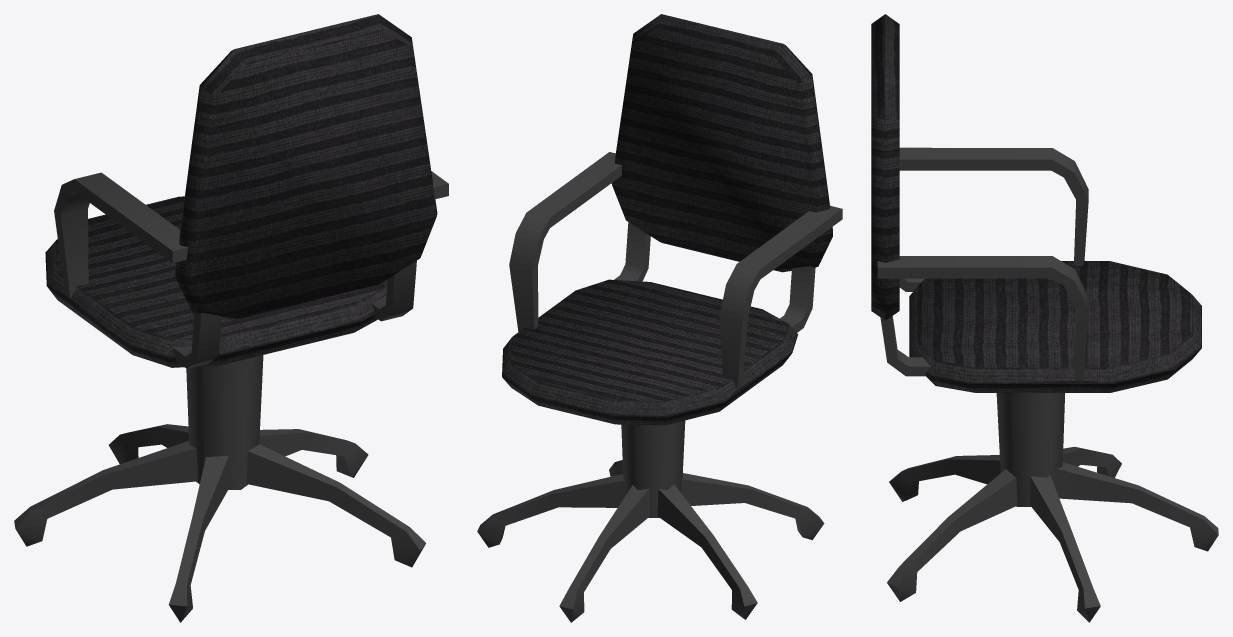
Rendered from chair.glb.
3 views of the same model, side by side, from view 1: azimuth 30°, elevation 25°; view 2: azimuth 150°, elevation 25°; view 3: azimuth 270°, elevation 25° (orthographic). The views are drawn at different scales.
Parts seen in each view (by area): view 1: Cylinder.037; view 2: Cylinder.037; view 3: Cylinder.037.
Part boxes in pixels (bbox=[...]): Cylinder.037: bbox=[14, 14, 448, 622]; Cylinder.037: bbox=[477, 14, 842, 622]; Cylinder.037: bbox=[871, 14, 1218, 622].
Size of the model in its own units: 1.3 by 2.08 by 1.29.
2 materials, 1 textured.
